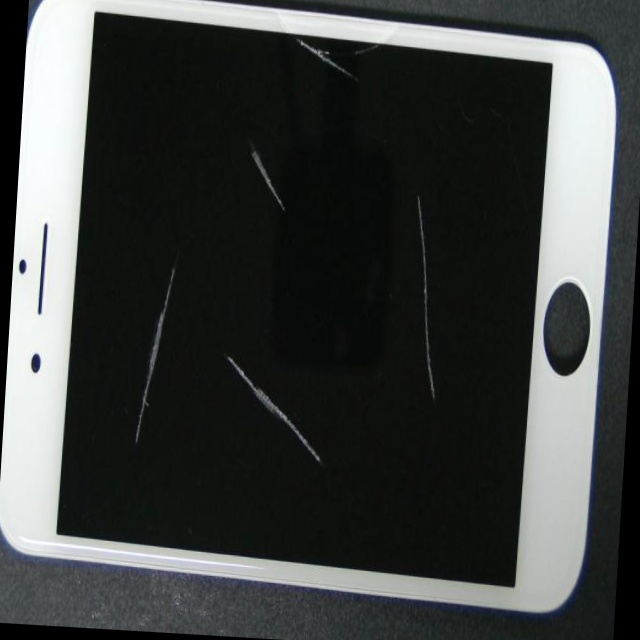scratch: (243, 287, 633, 544), (171, 115, 415, 320), (229, 13, 498, 116)
